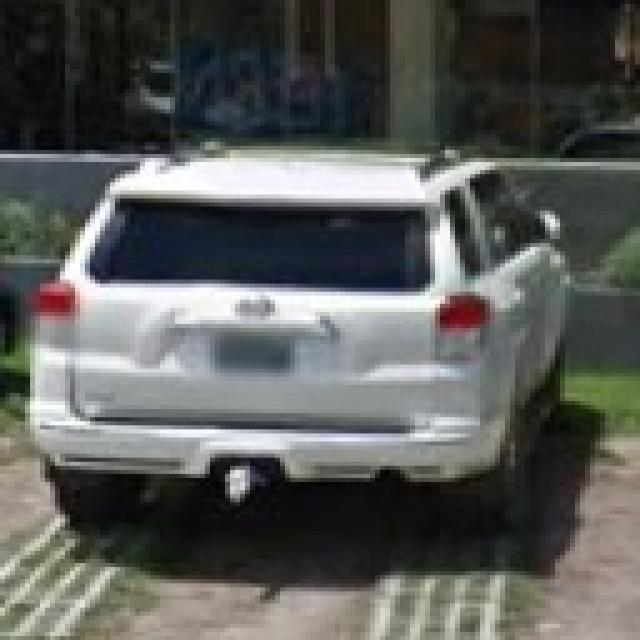Car: (30, 161, 577, 524)
